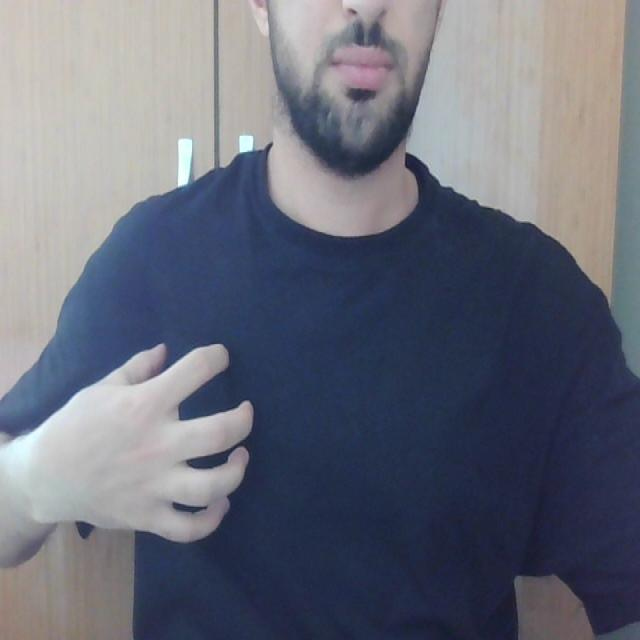Anne: (62, 325, 268, 553)
